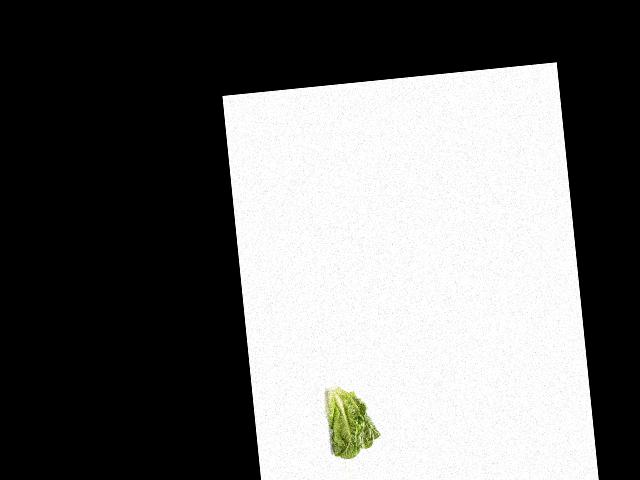lettuce: (313, 379, 383, 461)
